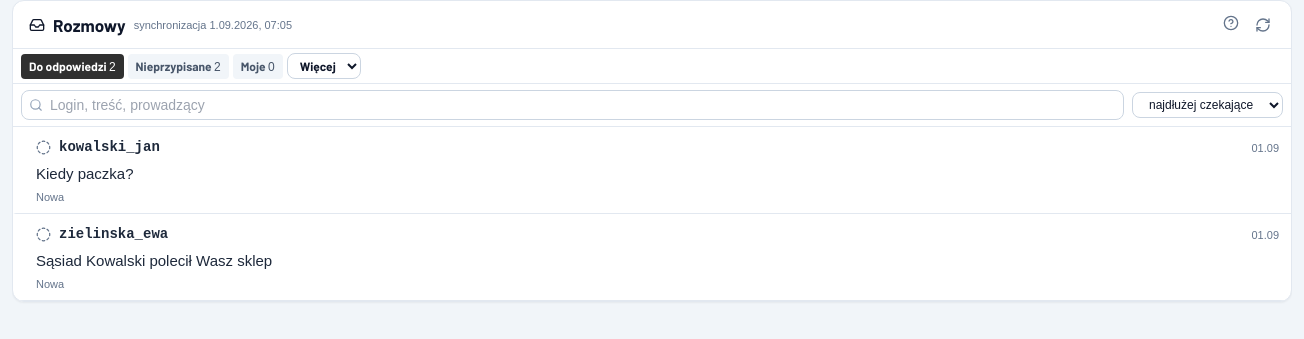
Scenario: Szukanie w kolejce › MÓWI, że trafienie jest w treści, nie w loginie (0.425.0)
Type "kowalski" into the field named "Szukaj w rozmowach" at (572, 105), box [21, 90, 1124, 120]
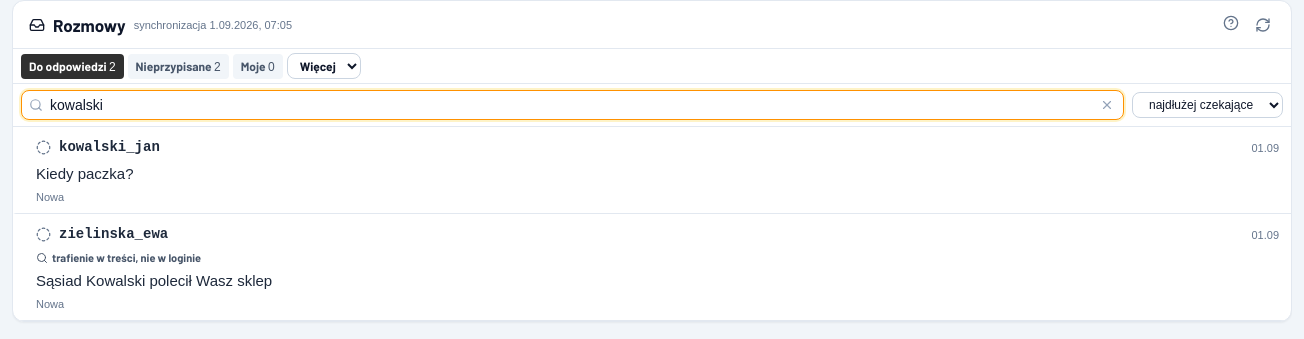
Expected: the text "kowalski_jan" is shown, [59, 137, 160, 157]
Result: the text "trafienie w treści, nie w loginie" is shown at [36, 250, 201, 266]
